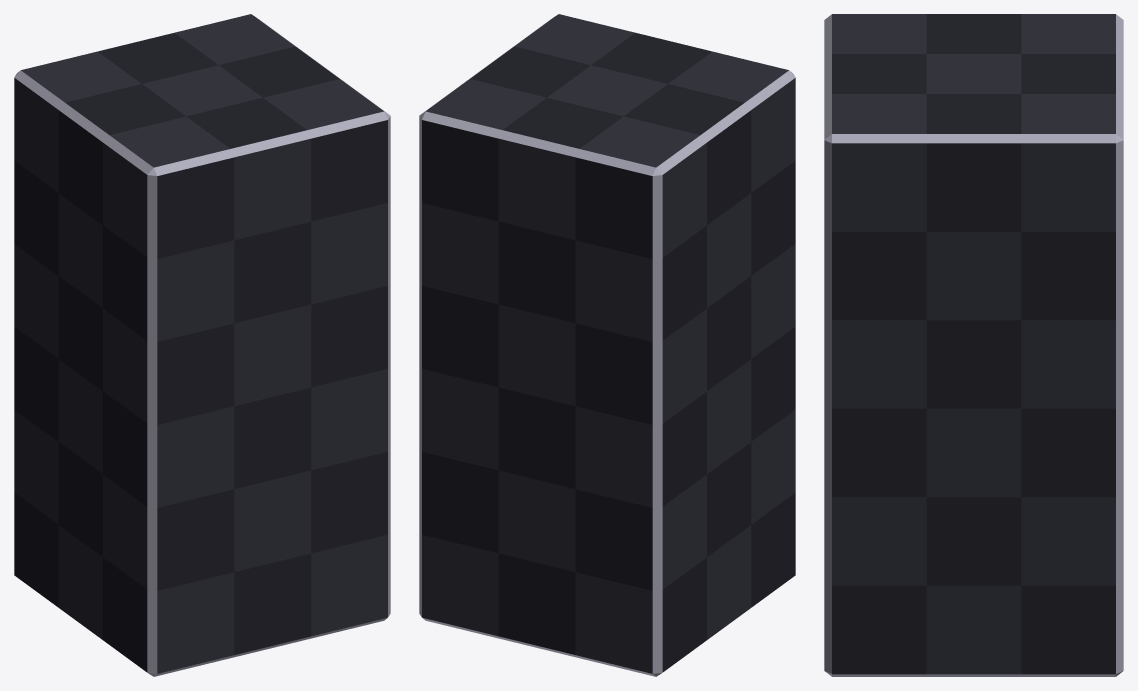
File: PMP-M-Ground-Main-1x1x2-V1.fbx
The picture shows the model from 3 angles, left to right: view 1: azimuth 30°, elevation 25°; view 2: azimuth 150°, elevation 25°; view 3: azimuth 270°, elevation 25°; orthographic projection. The views are drawn at different scales.
Parts seen in each view (by area): view 1: MONO-Terrain-A-1x1x2; view 2: MONO-Terrain-A-1x1x2; view 3: MONO-Terrain-A-1x1x2.
Part boxes in pixels (x1,y1,x2,y2): MONO-Terrain-A-1x1x2: [14, 14, 390, 676]; MONO-Terrain-A-1x1x2: [419, 14, 795, 676]; MONO-Terrain-A-1x1x2: [824, 14, 1123, 676].
Bounding box in the file's own units: 100 × 200 × 100.
